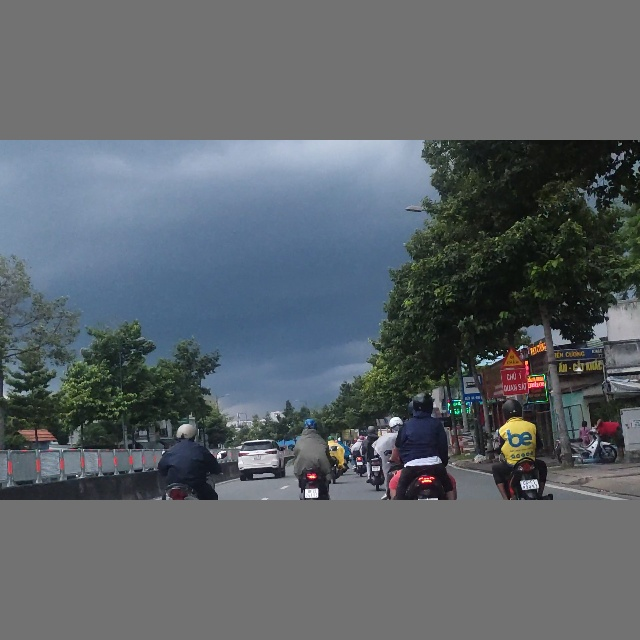I.434a: (461, 374, 484, 402)
W.245a: (501, 347, 525, 368)
